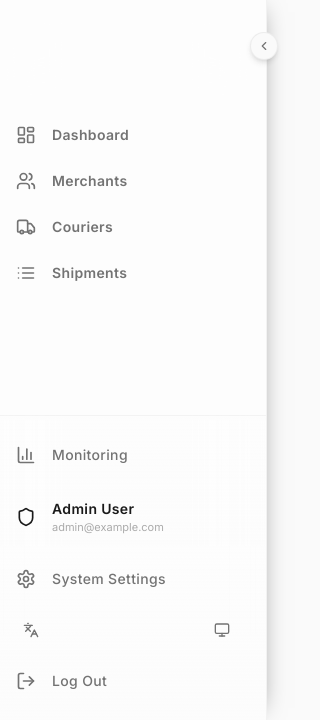
it: AdminLayout › toggles sidebar collapse
What coordinates should you click on to do the following:
click the 1st button
I would click on:
 (264, 46)
Its box is left=250, top=32, right=278, bottom=60.
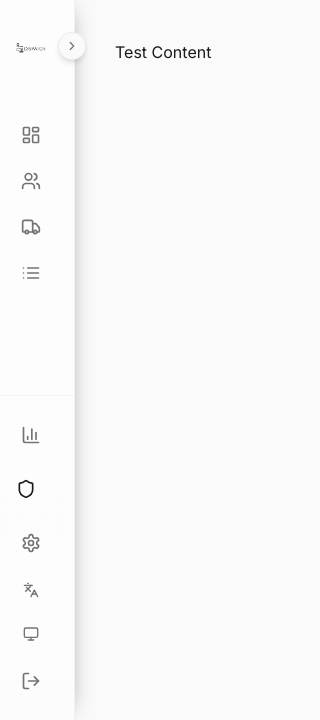
Expected: the text "Dashboard" is gone
